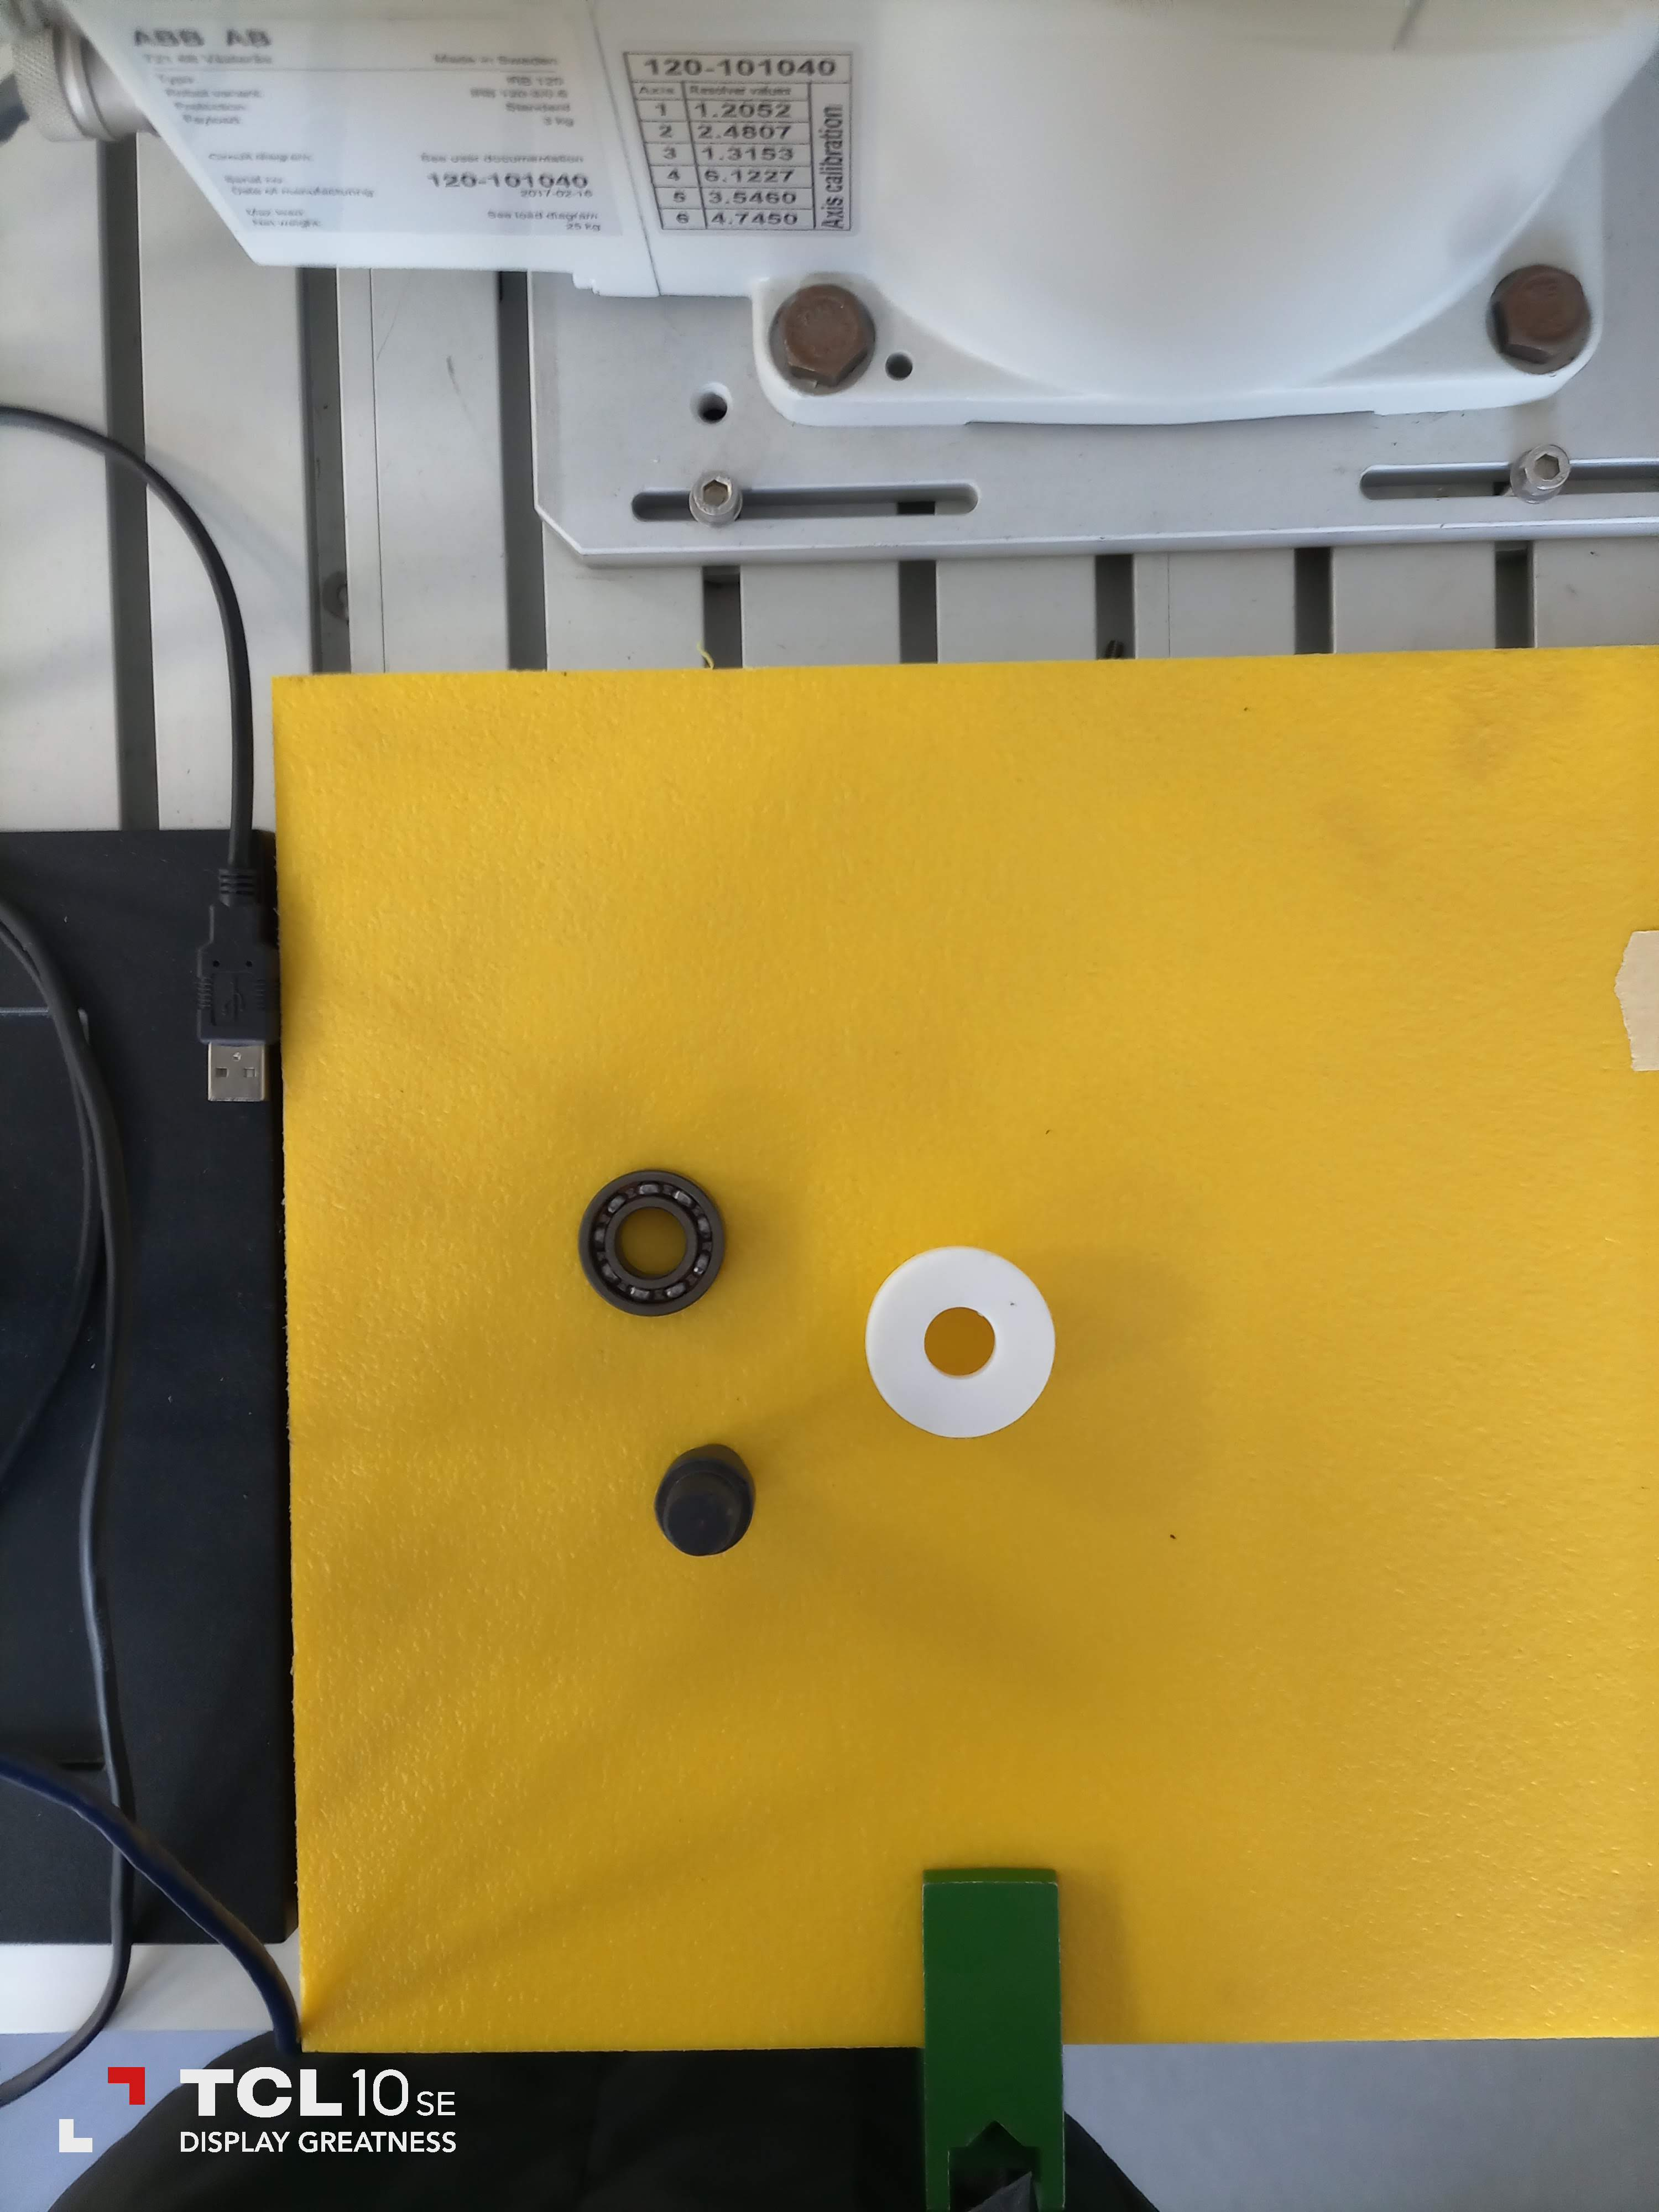Ardatza: (648, 1440, 770, 1559)
Roda: (582, 1165, 737, 1320)
Tapa: (866, 1242, 1061, 1446)
